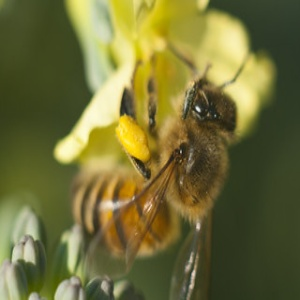bee: (69, 57, 256, 299)
